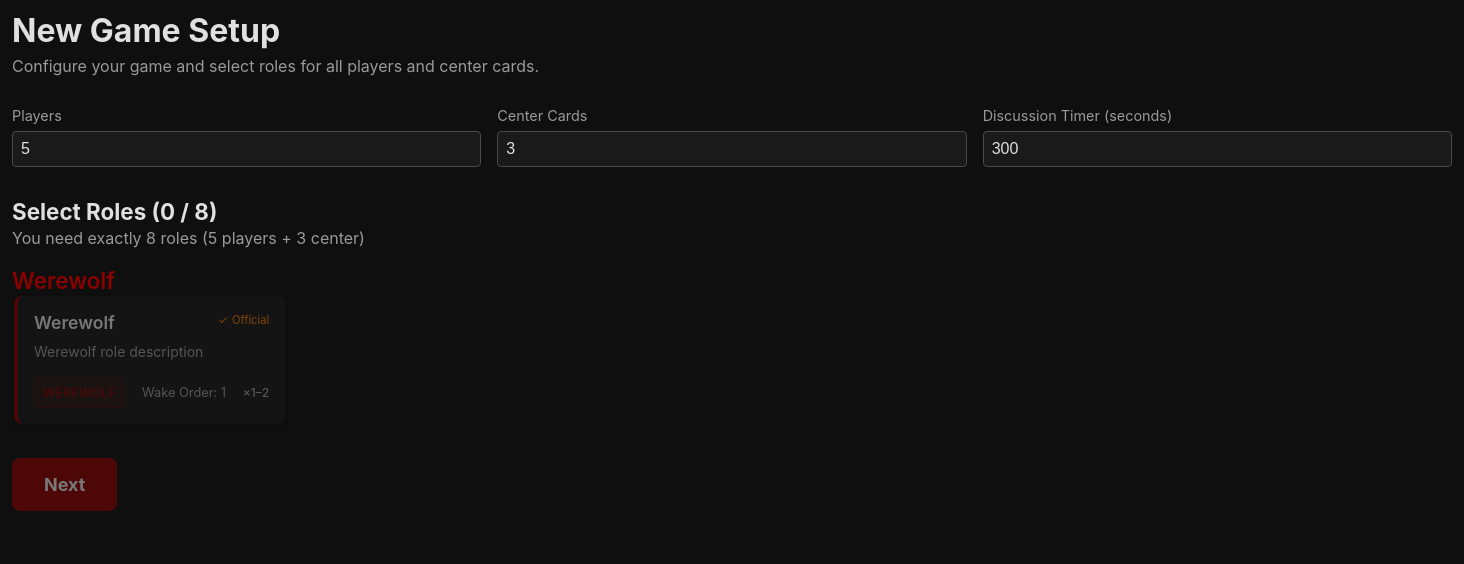
GameSetupPage › multi-copy role selection › clicking a role with default_count=2 adds 2 to the total count
Click the element that starts with "Werewolf": click(150, 360) [12, 294, 287, 426]
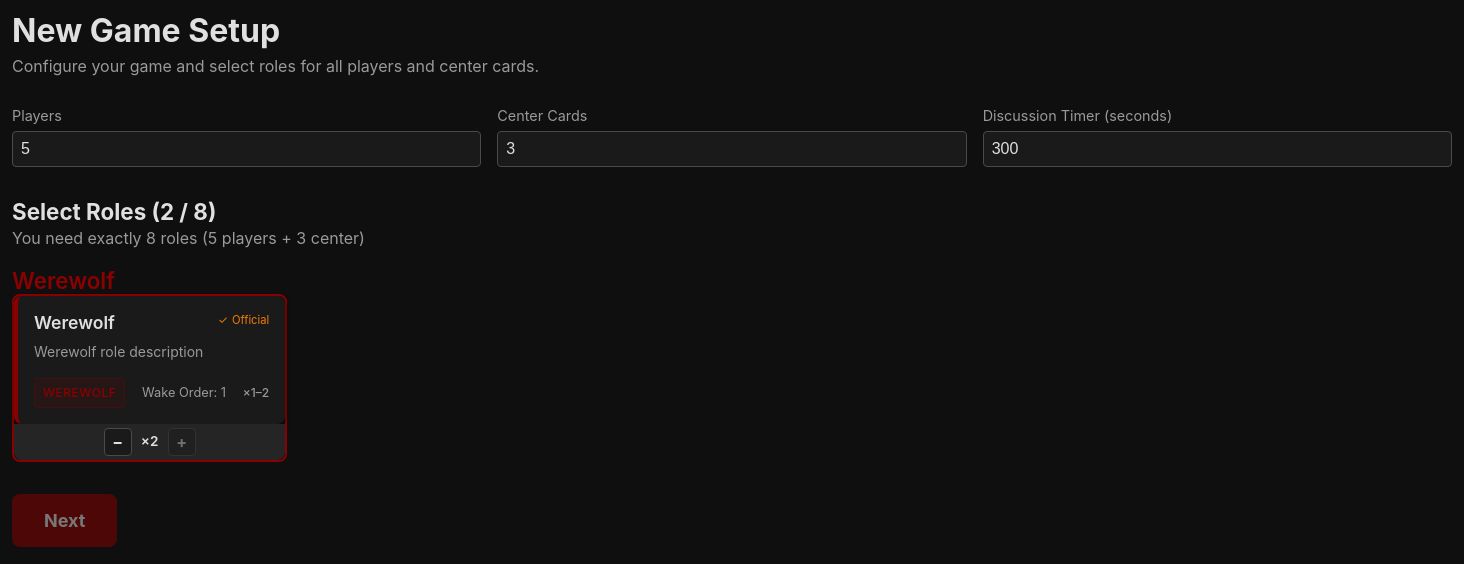
Expected: the heading "Select Roles (2 / 8)" is shown, [12, 198, 216, 225]
